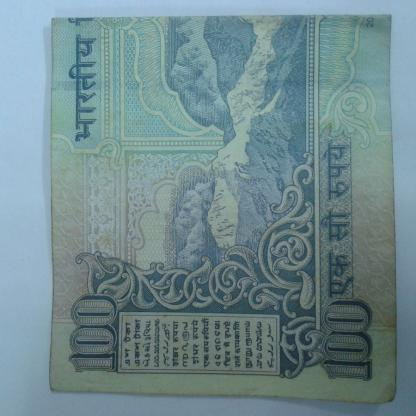Old100Back: (48, 14, 400, 406)
